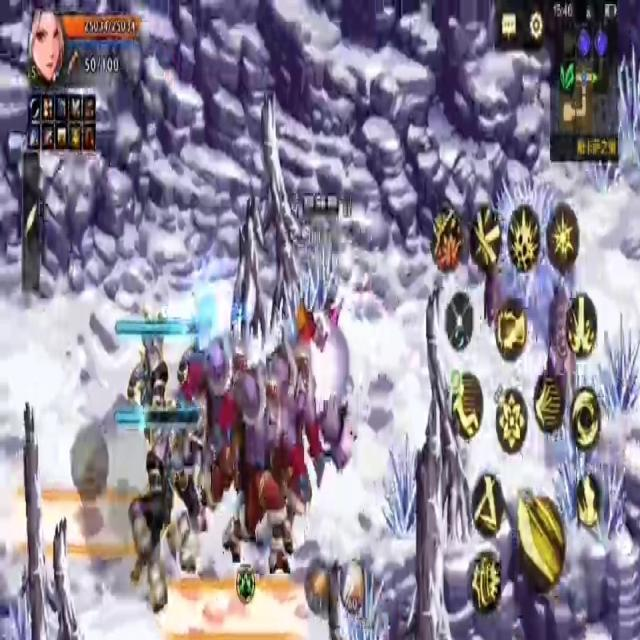player: (294, 297, 356, 419)
